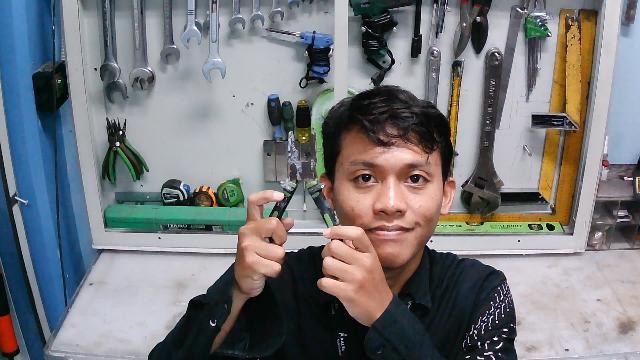tang_kombinasi: (264, 130, 342, 249)
